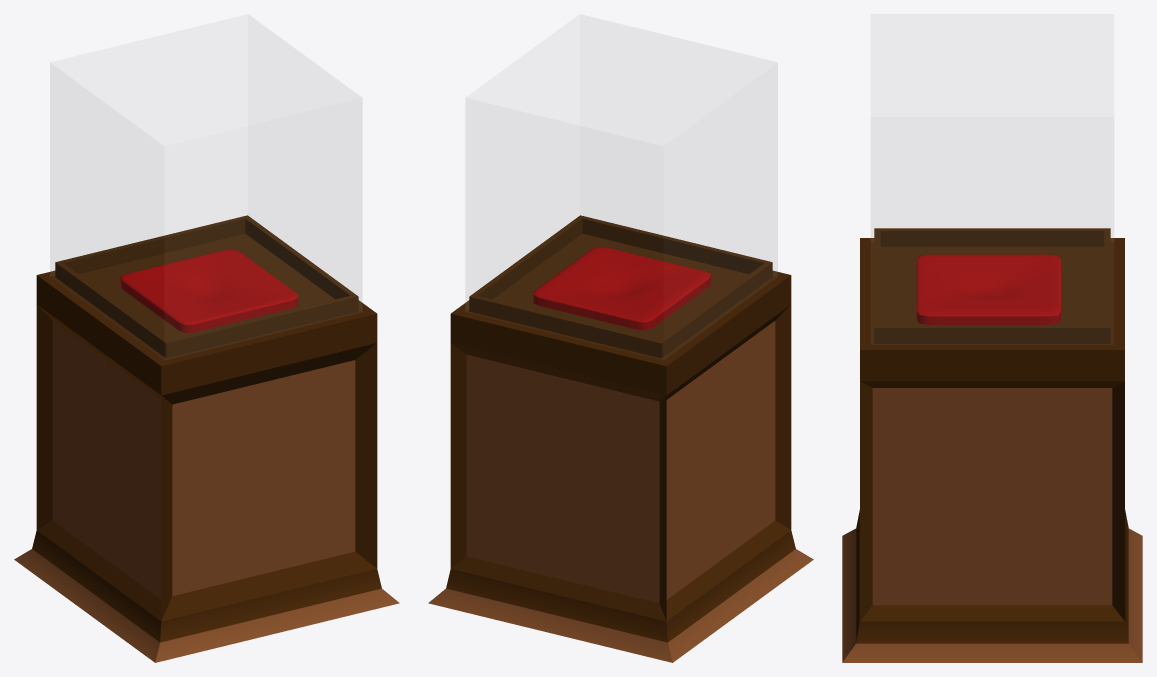
Rendered from Expositor_Diamante.fbx.
The picture shows the model from 3 angles, left to right: view 1: azimuth 30°, elevation 25°; view 2: azimuth 150°, elevation 25°; view 3: azimuth 270°, elevation 25°; orthographic projection. The views are drawn at different scales.
Visible parts, largest first — view 1: pCube1, pasted__pCube1, pCube2; view 2: pCube1, pasted__pCube1, pCube2; view 3: pCube1, pasted__pCube1, pCube2.
Part boxes in pixels (box(x1,y1,x2,y2)): pCube1: box(14, 215, 399, 662); pasted__pCube1: box(50, 14, 361, 310); pCube2: box(120, 249, 298, 332); pCube1: box(428, 215, 813, 662); pasted__pCube1: box(466, 14, 777, 310); pCube2: box(533, 246, 710, 330); pCube1: box(842, 228, 1142, 662); pasted__pCube1: box(871, 14, 1113, 241); pCube2: box(916, 254, 1060, 324).
Size of the model in its own units: 670 by 1312 by 670.
